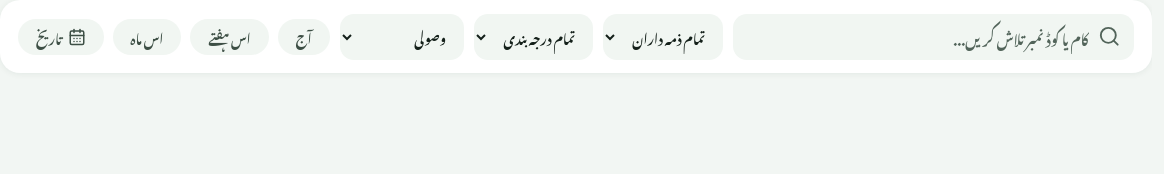
Scenario: the receipt filter › desktop filter bar: "وصولی" with three choices for an admin, written to the URL, shown as a chip
Select "جزوی" in the dropdown named "Receipt filter" at {"x": 402, "y": 36}, box [340,14,464,60]
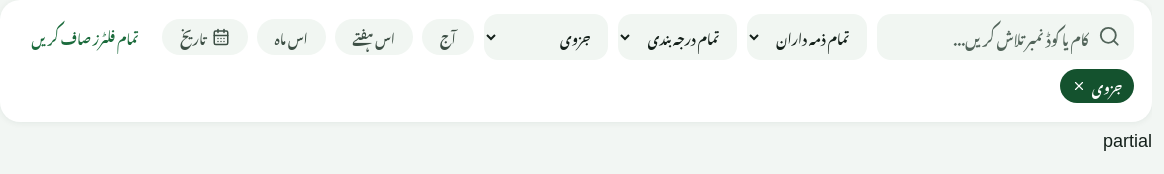
Now the text with test id "receipt-param" reads "partial", box [1103,112,1152,158]
Now the button with aria-label "جزوی — فلٹر ہٹائیں" is shown, box [1060,64,1134,108]
